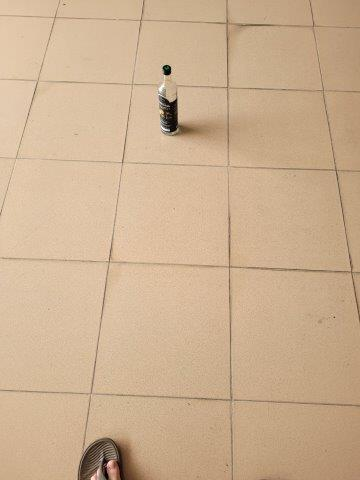botolkaca: (157, 65, 181, 137)
